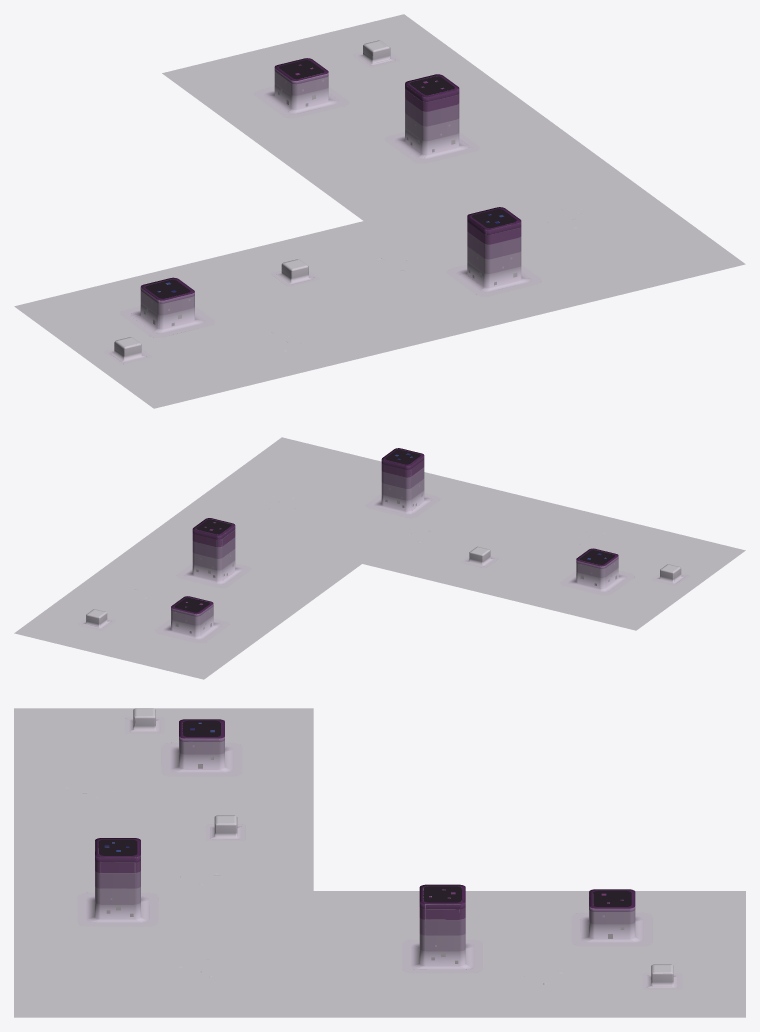
File: C_special1_out_LU.fbx
The picture shows the model from 3 angles, top to bottom: view 1: azimuth 30°, elevation 25°; view 2: azimuth 150°, elevation 25°; view 3: azimuth 270°, elevation 25°; orthographic projection. The views are drawn at different scales.
Parts seen in each view (by area): view 1: C_special1_out_LU.001; view 2: C_special1_out_LU.001; view 3: C_special1_out_LU.001.
Boxes of the visible parts, x1,y1,x2,y2 form: C_special1_out_LU.001: (14, 14, 745, 408); C_special1_out_LU.001: (14, 437, 745, 679); C_special1_out_LU.001: (14, 708, 745, 1017).
Size of the model in its own units: 127 by 12.34 by 127.
